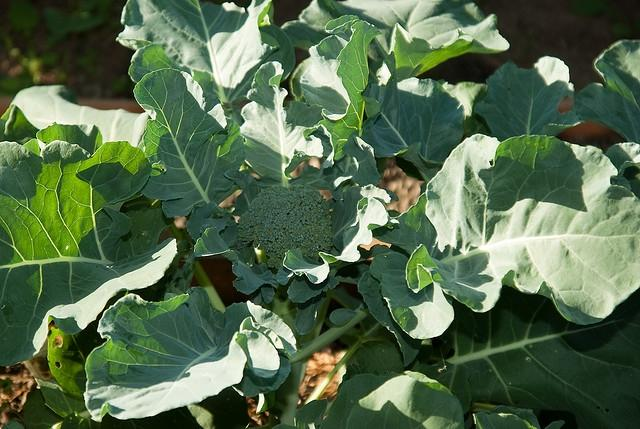broccoli: (237, 184, 333, 270)
